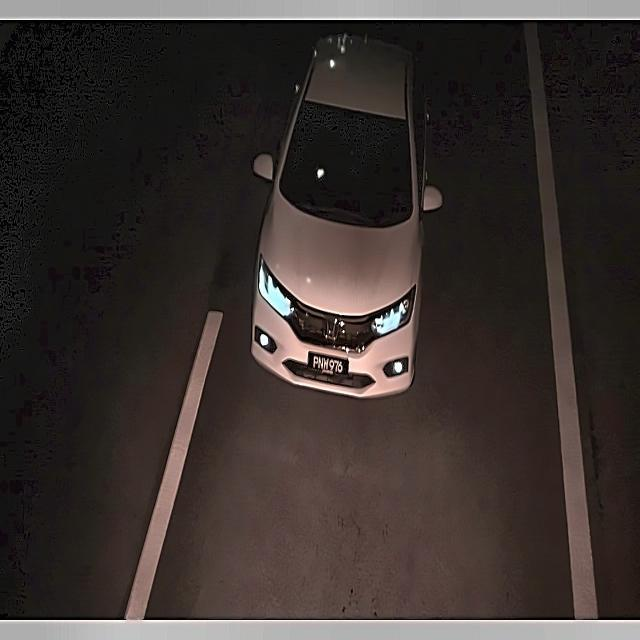car: (308, 348, 350, 384)
